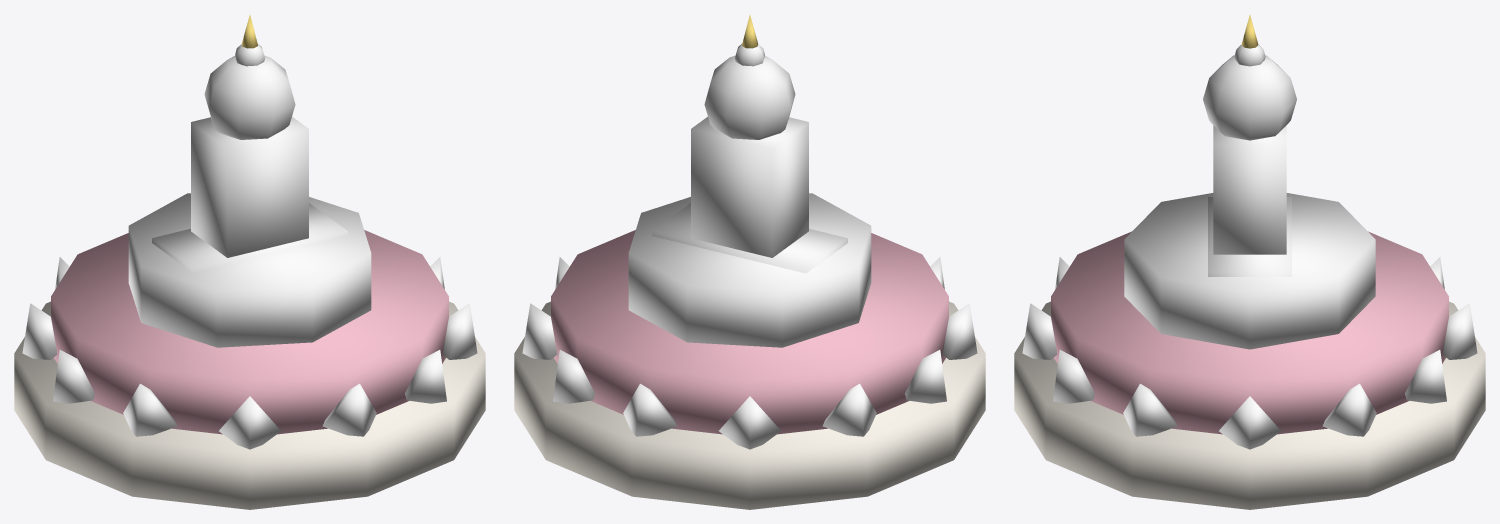
The model's file is big_buddha.glb.
3 views of the same model, side by side, from view 1: azimuth 30°, elevation 25°; view 2: azimuth 150°, elevation 25°; view 3: azimuth 270°, elevation 25° (orthographic).
Visible parts, largest first — view 1: lotus_base2, lotus_base1, legs_folded, torso, head, lap_overlay, petal_8, petal_7, petal_9, petal_10, petal_6, petal_11 (+2 smaller); view 2: lotus_base2, lotus_base1, legs_folded, torso, head, lap_overlay, petal_4, petal_3, petal_5, petal_2, petal_6, petal_1 (+2 smaller); view 3: lotus_base2, lotus_base1, legs_folded, torso, head, lap_overlay, petal_0, petal_1, petal_11, petal_10, petal_2, petal_3 (+2 smaller).
Part boxes in pixels (x1,y1,x2,y2): lotus_base2: (51,230,448,434); lotus_base1: (14,301,485,509); legs_folded: (128,193,371,347); torso: (191,116,308,257); head: (204,55,295,139); lap_overlay: (152,203,347,273); petal_8: (219,396,280,449); petal_7: (123,383,177,436); petal_9: (322,383,376,436); petal_10: (405,350,446,403); petal_6: (53,350,94,403); petal_11: (442,303,477,359); lotus_base2: (551,230,948,434); lotus_base1: (514,301,985,509); legs_folded: (628,193,871,347); torso: (691,116,808,257); head: (704,55,795,139); lap_overlay: (652,203,847,273); petal_4: (719,396,780,449); petal_3: (623,383,677,436); petal_5: (822,383,876,436); petal_2: (553,350,594,403); petal_6: (905,350,946,403); petal_1: (522,303,557,359); lotus_base2: (1051,231,1448,434); lotus_base1: (1014,301,1485,509); legs_folded: (1124,193,1375,349); torso: (1213,125,1286,254); head: (1203,55,1296,140); lap_overlay: (1208,197,1291,276); petal_0: (1219,396,1280,449); petal_1: (1322,383,1376,436); petal_11: (1123,383,1177,436); petal_10: (1053,350,1094,403); petal_2: (1405,350,1446,403); petal_3: (1442,303,1477,359).
Size of the model in its own units: 0.9 by 0.835 by 0.9.
